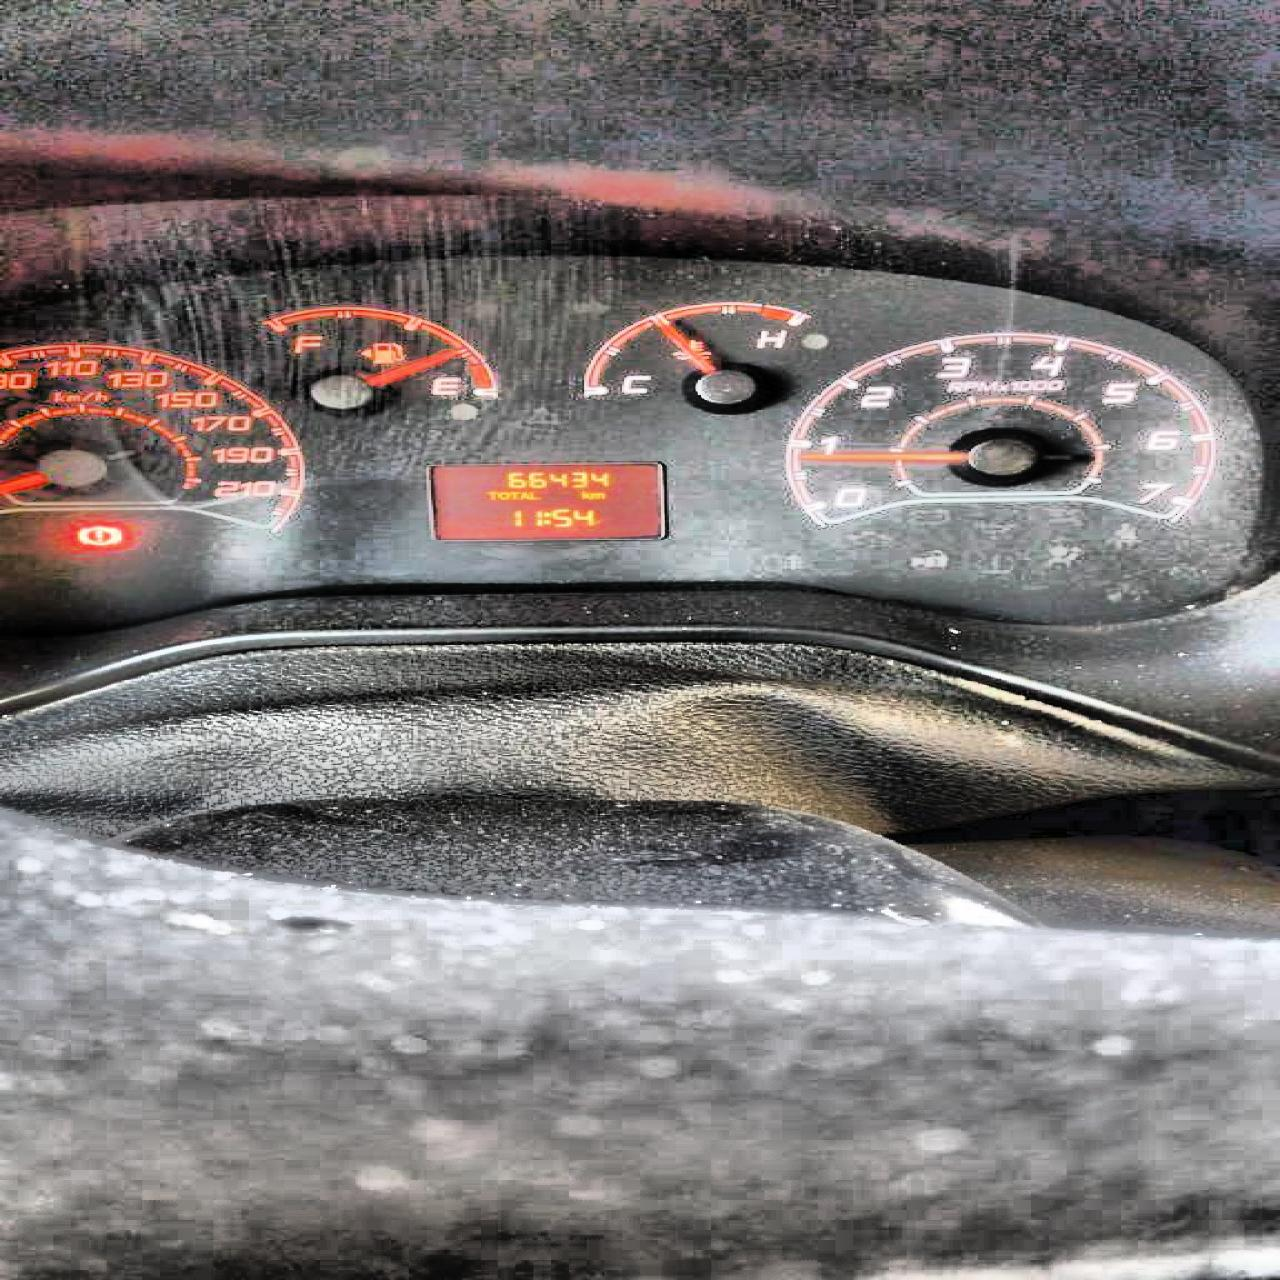1: (511, 508, 520, 526), (533, 508, 539, 526)
3: (568, 470, 587, 488)
4: (571, 508, 593, 525), (588, 471, 607, 486), (546, 471, 565, 486)
5: (551, 506, 571, 527)
6: (526, 470, 545, 488), (504, 471, 524, 488)
X: (526, 490, 540, 499), (484, 490, 496, 499), (588, 491, 602, 498), (496, 490, 506, 499), (580, 489, 588, 501), (543, 510, 549, 525), (509, 490, 518, 499), (517, 490, 526, 499)
odometer: (415, 457, 674, 545)
